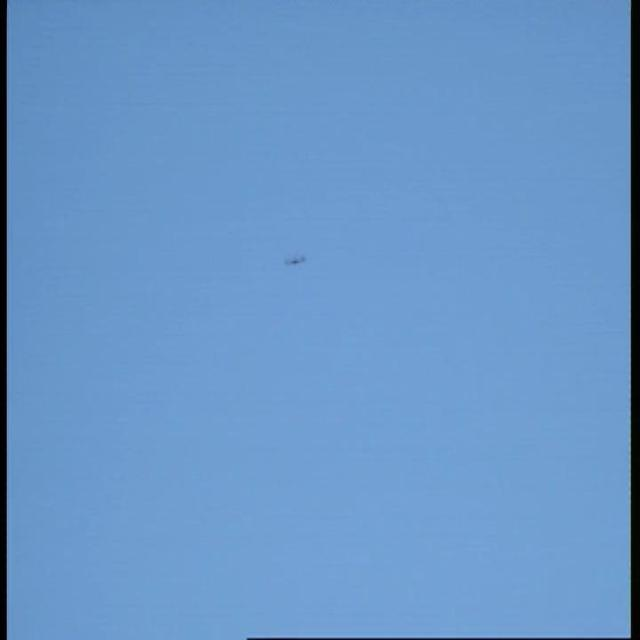drone: (274, 246, 314, 276)
